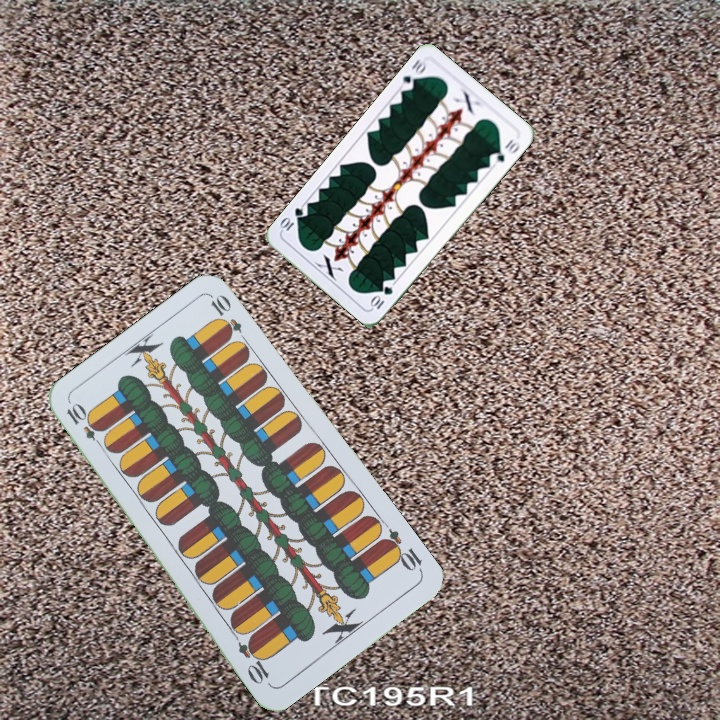E10: (377, 525, 426, 576), (62, 400, 108, 452)
G10: (396, 55, 429, 94), (366, 282, 396, 312)
